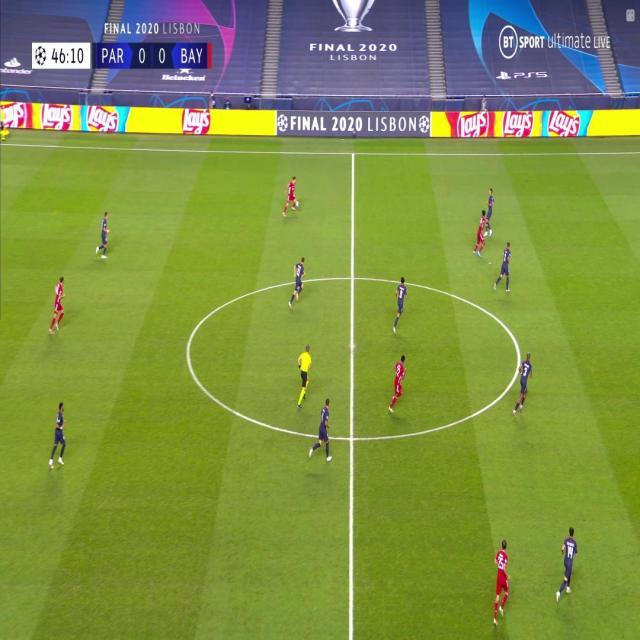player: (555, 525, 579, 602), (309, 397, 335, 464), (491, 538, 511, 623), (48, 400, 69, 469), (512, 352, 534, 416), (387, 355, 409, 413), (49, 274, 67, 334), (392, 276, 410, 334), (493, 241, 513, 293), (288, 256, 307, 308), (95, 210, 112, 260), (282, 174, 300, 218), (473, 209, 487, 258), (483, 185, 496, 235)
referee: (296, 342, 314, 407), (0, 104, 11, 141)
